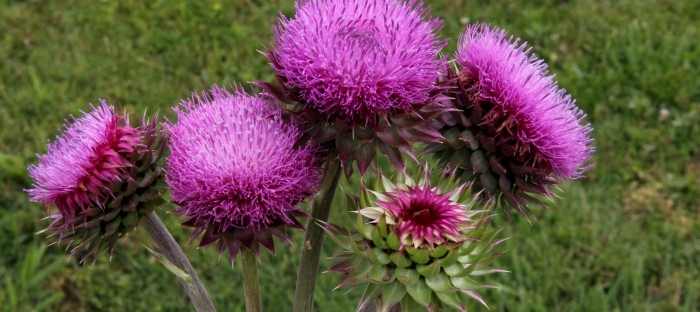thistle: (440, 13, 594, 220), (267, 3, 432, 182), (160, 81, 324, 260), (23, 104, 169, 257), (352, 189, 499, 310)
